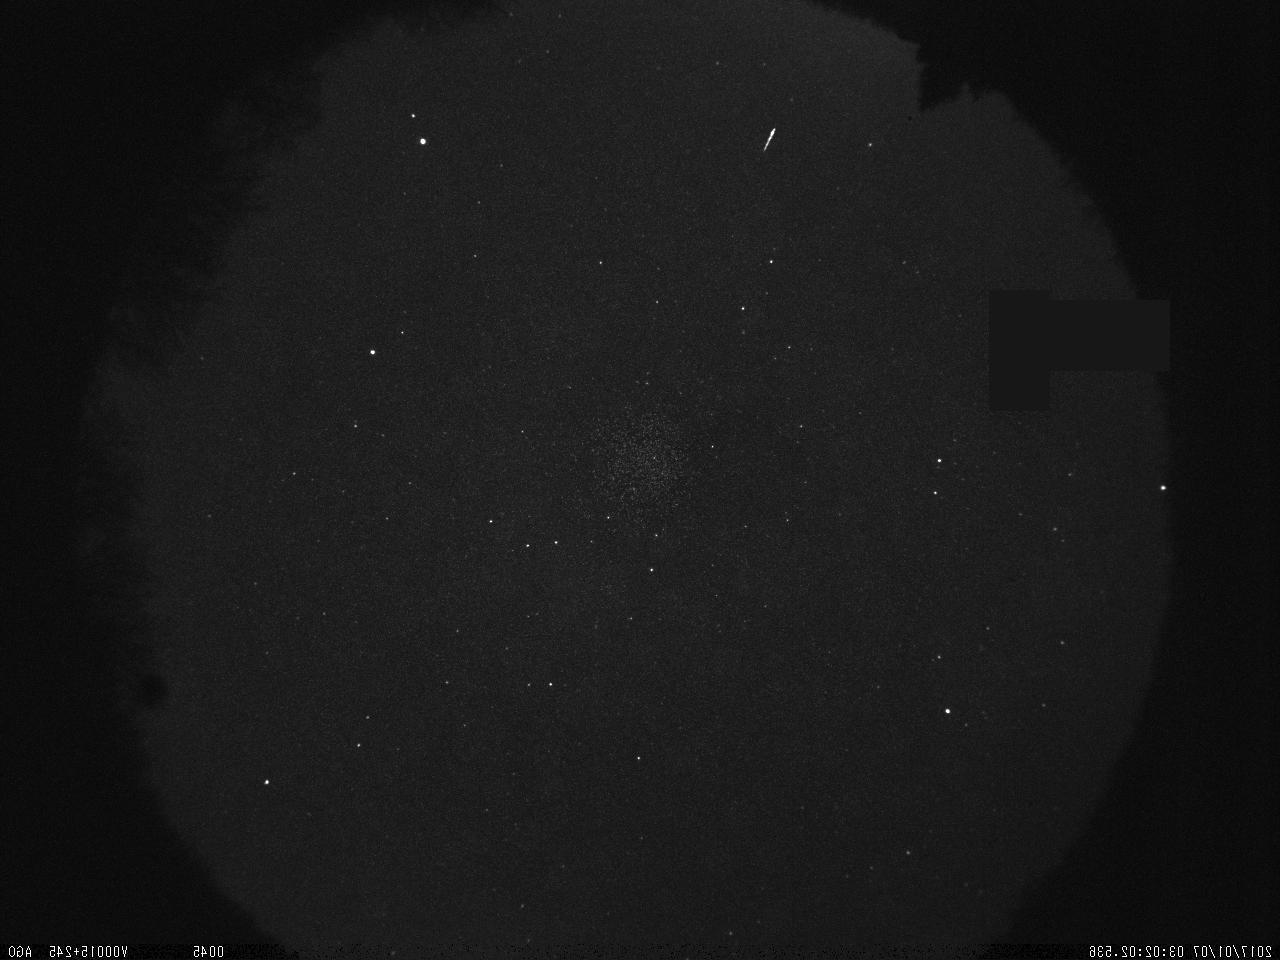meteor: (757, 119, 788, 162)
